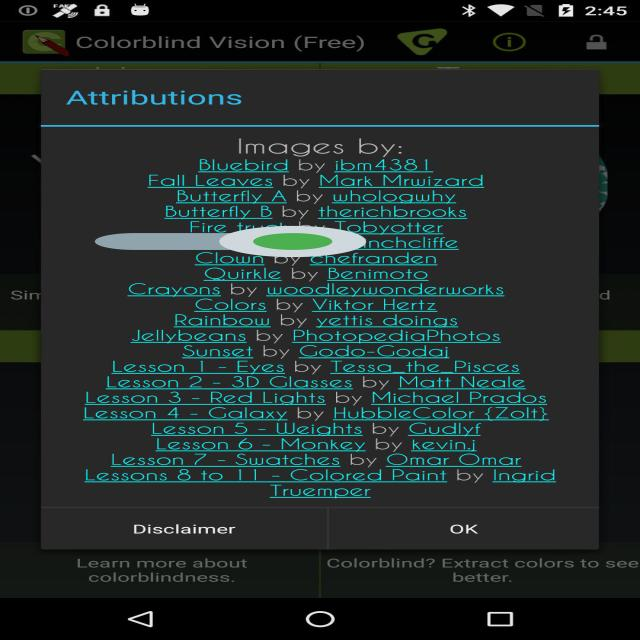social proof: (95, 213, 366, 270)
